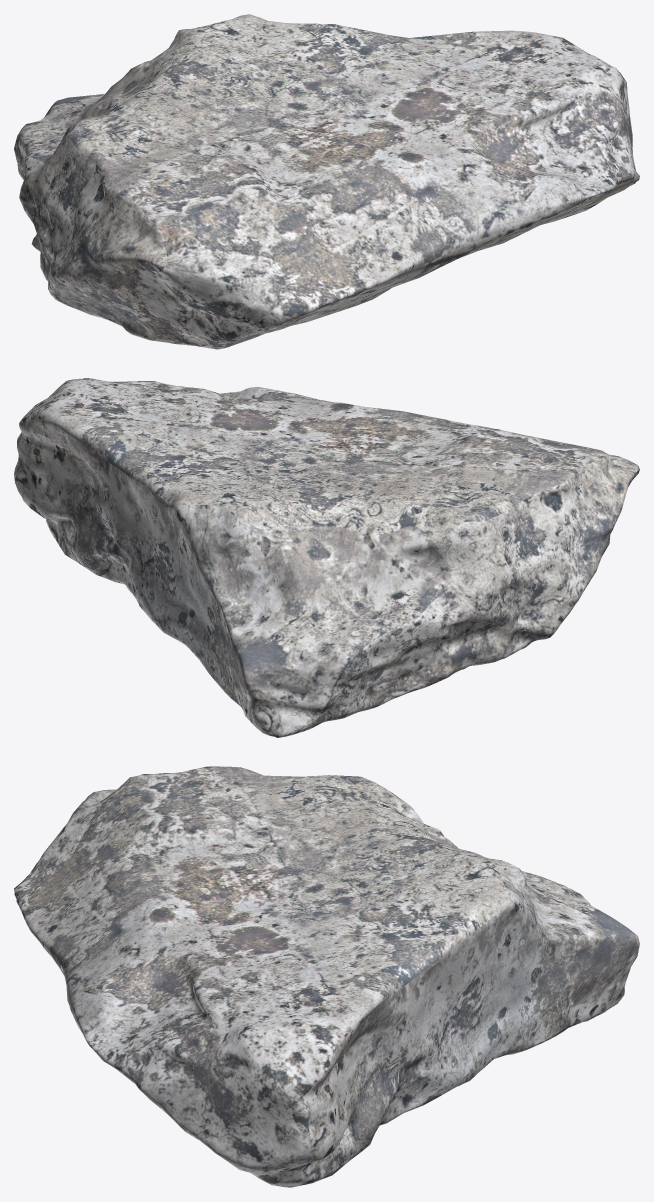
Rendered from SM_Small_Rock_E.fbx.
3 renders of one model, top to bottom at view 1: azimuth 30°, elevation 25°; view 2: azimuth 150°, elevation 25°; view 3: azimuth 270°, elevation 25°, orthographic. The views are drawn at different scales.
Visible parts, largest first — view 1: SM_Small_Rock_E_LOD0; view 2: SM_Small_Rock_E_LOD0; view 3: SM_Small_Rock_E_LOD0.
Part boxes in pixels (x1,y1,x2,y2): SM_Small_Rock_E_LOD0: (14,14,639,349); SM_Small_Rock_E_LOD0: (14,378,639,737); SM_Small_Rock_E_LOD0: (14,766,639,1187).
Size of the model in its own units: 237 by 213 by 70.15.
Materials: 1 (1 with a texture image).
